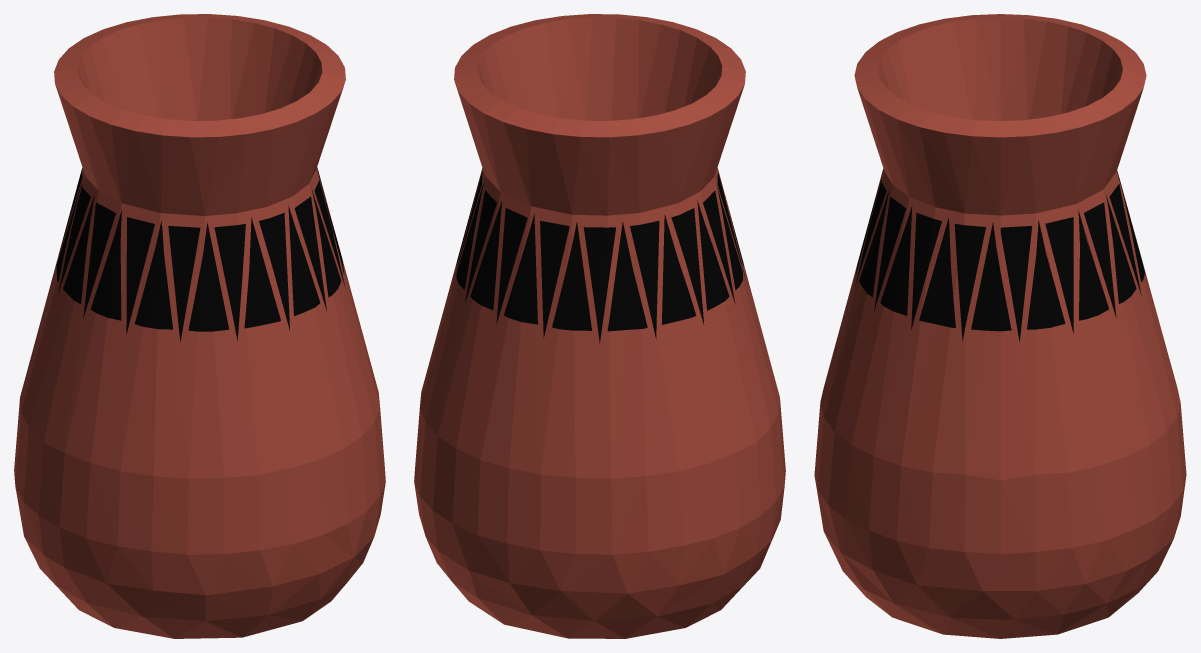
The model's file is Pottery 24_1b.fbx.
3 views of the same model, side by side, from view 1: azimuth 30°, elevation 25°; view 2: azimuth 150°, elevation 25°; view 3: azimuth 270°, elevation 25° (orthographic).
Visible parts, largest first — view 1: Pottery 24_1b.003, Pottery 24_1b.002, Pottery 24_1b.007, Pottery 24_1b, Pottery 24_1b.004, Pottery 24_1b.008, Pottery 24_1b.001, Pottery 24_1b.005, Pottery 24_1b.006; view 2: Pottery 24_1b.001, Pottery 24_1b, Pottery 24_1b.002, Pottery 24_1b.006, Pottery 24_1b.005, Pottery 24_1b.004, Pottery 24_1b.003, Pottery 24_1b.007, Pottery 24_1b.009; view 3: Pottery 24_1b.004, Pottery 24_1b.009, Pottery 24_1b, Pottery 24_1b.008, Pottery 24_1b.005, Pottery 24_1b.002, Pottery 24_1b.001, Pottery 24_1b.003.
Boxes of the visible parts, x1,y1,x2,y2 form: Pottery 24_1b.003: [121, 101, 319, 554]; Pottery 24_1b.002: [29, 76, 160, 452]; Pottery 24_1b.007: [23, 418, 187, 590]; Pottery 24_1b: [18, 502, 373, 638]; Pottery 24_1b.004: [233, 20, 367, 373]; Pottery 24_1b.008: [293, 329, 385, 573]; Pottery 24_1b.001: [35, 16, 182, 339]; Pottery 24_1b.005: [163, 14, 263, 120]; Pottery 24_1b.006: [14, 336, 38, 503]; Pottery 24_1b.001: [490, 106, 697, 477]; Pottery 24_1b: [414, 418, 778, 638]; Pottery 24_1b.002: [675, 66, 771, 452]; Pottery 24_1b.006: [576, 396, 740, 573]; Pottery 24_1b.005: [425, 72, 513, 422]; Pottery 24_1b.004: [430, 14, 618, 370]; Pottery 24_1b.003: [611, 14, 769, 358]; Pottery 24_1b.007: [735, 354, 785, 554]; Pottery 24_1b.009: [414, 320, 440, 478]; Pottery 24_1b.004: [850, 89, 1096, 426]; Pottery 24_1b.009: [929, 378, 1126, 590]; Pottery 24_1b: [824, 359, 1186, 638]; Pottery 24_1b.008: [814, 328, 941, 584]; Pottery 24_1b.005: [1068, 82, 1168, 455]; Pottery 24_1b.002: [920, 14, 1055, 120]; Pottery 24_1b.001: [1029, 18, 1170, 362]; Pottery 24_1b.003: [814, 24, 939, 472].
Size of the model in its own units: 30.34 by 45.98 by 30.35.
